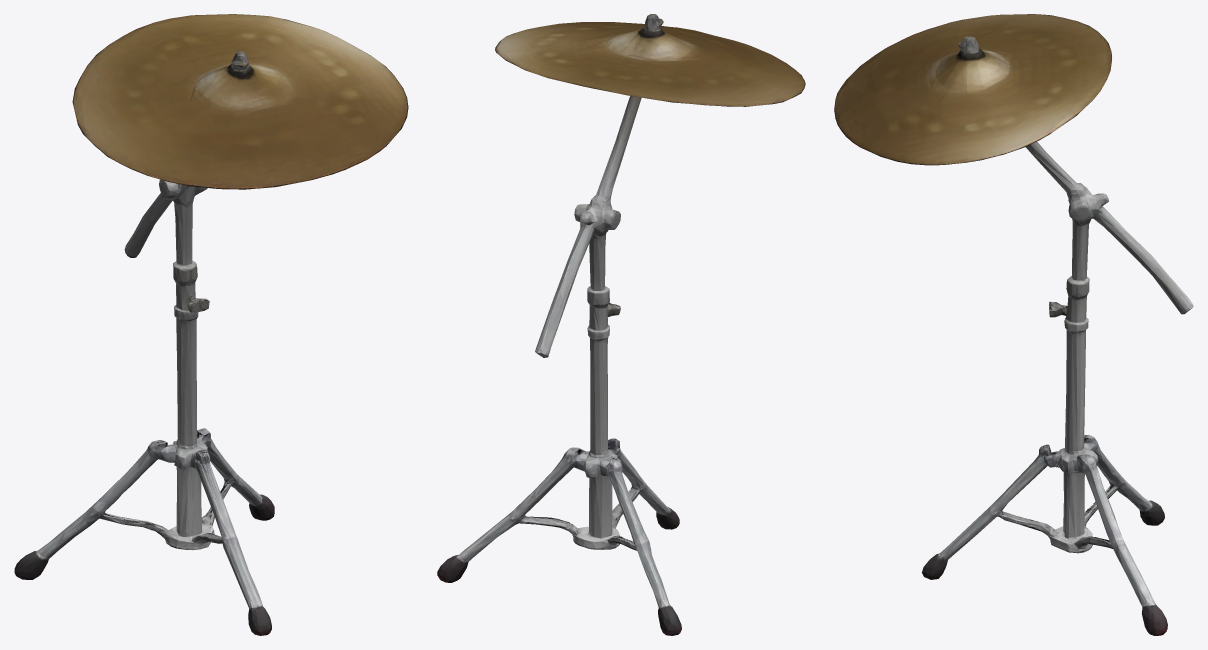
The model's file is cymbal_stand.glb.
3 renders of one model, left to right at view 1: azimuth 30°, elevation 25°; view 2: azimuth 150°, elevation 25°; view 3: azimuth 270°, elevation 25°, orthographic. The views are drawn at different scales.
Visible parts, largest first — view 1: geometry_0; view 2: geometry_0; view 3: geometry_0.
Part boxes in pixels (left/top/right/bottom): geometry_0: left=14, top=14, right=408, bottom=635; geometry_0: left=437, top=14, right=805, bottom=635; geometry_0: left=834, top=14, right=1193, bottom=635.
Bounding box in the file's own units: 0.5553 × 1 × 0.6038.
1 material, 1 textured.
